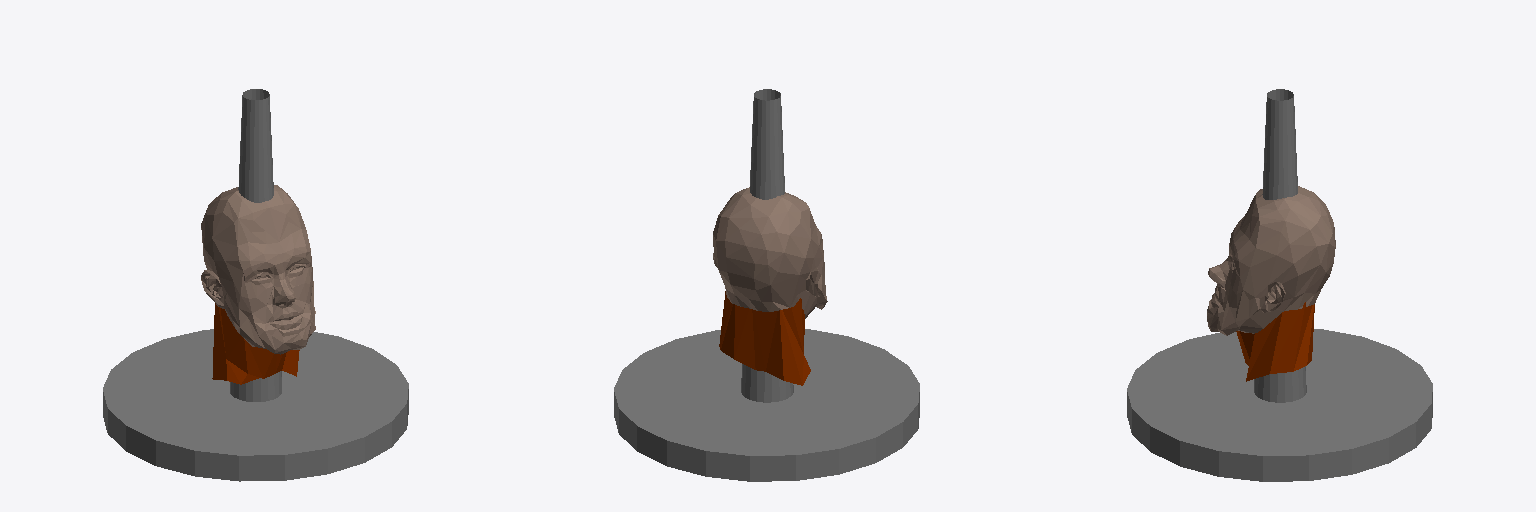
Rendered from head.obj.
The picture shows the model from 3 angles: view 1: azimuth 30°, elevation 25°; view 2: azimuth 150°, elevation 25°; view 3: azimuth 270°, elevation 25°; orthographic projection.
Parts seen in each view (by area): view 1: head; view 2: head; view 3: head.
Part boxes in pixels (x1,y1,x2,y2): head: (103,89,408,481); head: (614,89,919,481); head: (1127,89,1432,481).
Size of the model in its own units: 2.15 by 2.5 by 2.15.